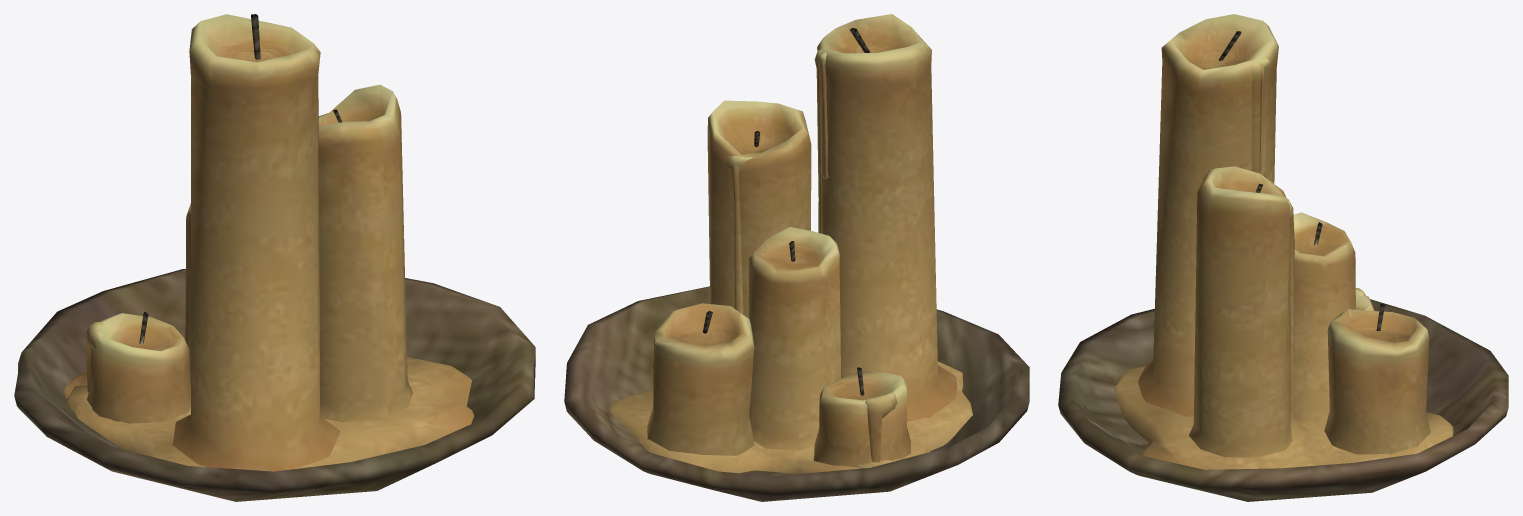
The model's file is GEN_PRO_Candle_Group_03A_LOD0-transformed.glb.
The picture shows the model from 3 angles, left to right: view 1: azimuth 30°, elevation 25°; view 2: azimuth 150°, elevation 25°; view 3: azimuth 270°, elevation 25°; orthographic projection. The views are drawn at different scales.
Parts seen in each view (by area): view 1: default; view 2: default; view 3: default.
Boxes of the visible parts, left/top/right/bottom form: default: left=14, top=14, right=535, bottom=501; default: left=564, top=14, right=1029, bottom=501; default: left=1058, top=14, right=1508, bottom=501.
Size of the model in its own units: 0.2361 by 0.2246 by 0.2292.
Materials: 2 (2 with a texture image).
